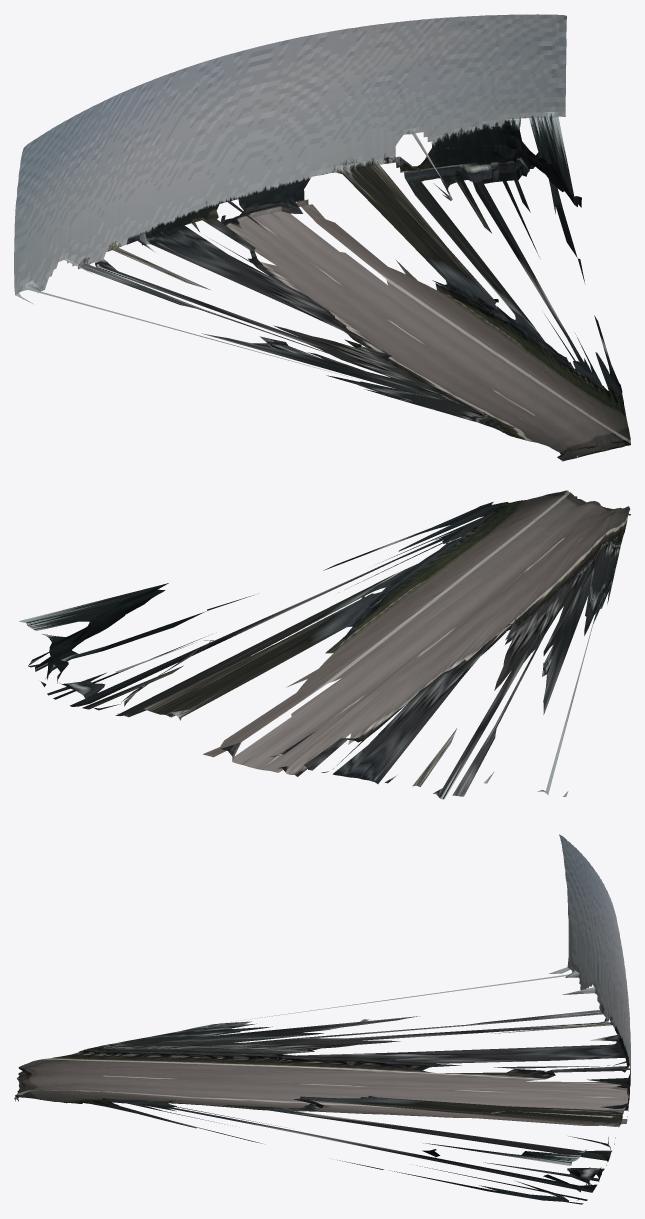
3 views of the same model, one above another, from view 1: azimuth 30°, elevation 25°; view 2: azimuth 150°, elevation 25°; view 3: azimuth 270°, elevation 25° (orthographic). The views are drawn at different scales.
Visible parts, largest first — view 1: defaultobject; view 2: defaultobject; view 3: defaultobject.
Boxes of the visible parts, x1,y1,x2,y2 form: defaultobject: [14, 14, 630, 461]; defaultobject: [19, 490, 630, 799]; defaultobject: [14, 834, 630, 1204].
Size of the model in its own units: 41.14 by 12.74 by 44.43.
1 material, 1 textured.
